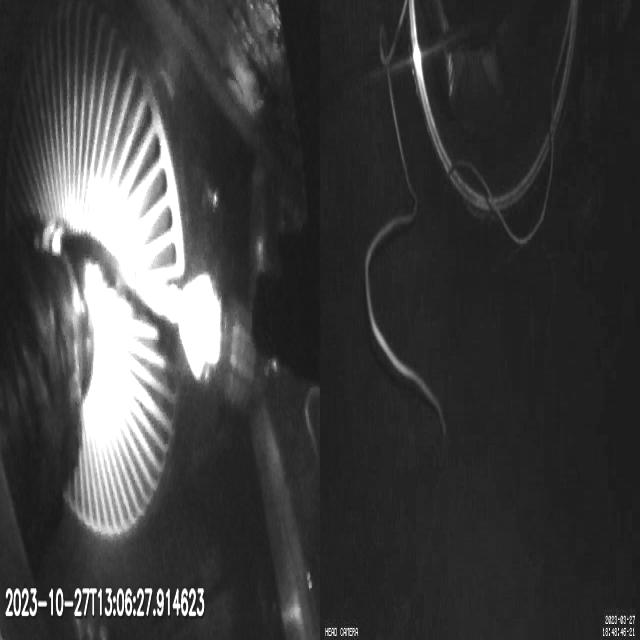head: (180, 273, 268, 413)
white-dots: (30, 223, 64, 257)
